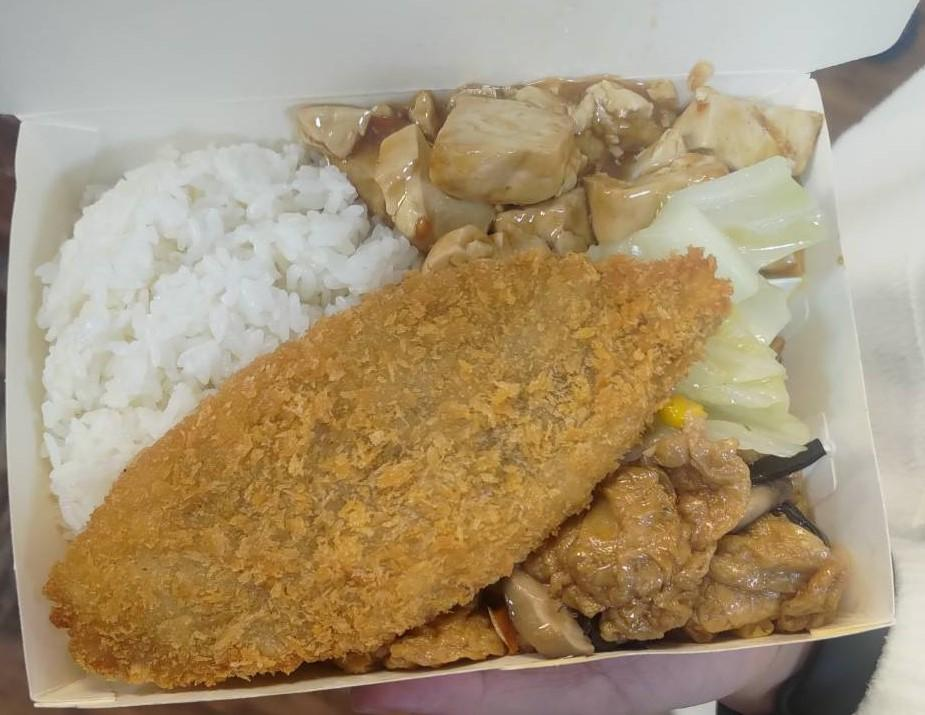big grilled chicken leg: (0, 54, 904, 715)
big herbal chicken leg: (40, 139, 415, 538)
braised fish fillet: (290, 74, 827, 262), (493, 434, 864, 654), (605, 155, 834, 449)
braised pork: (32, 240, 732, 685)
